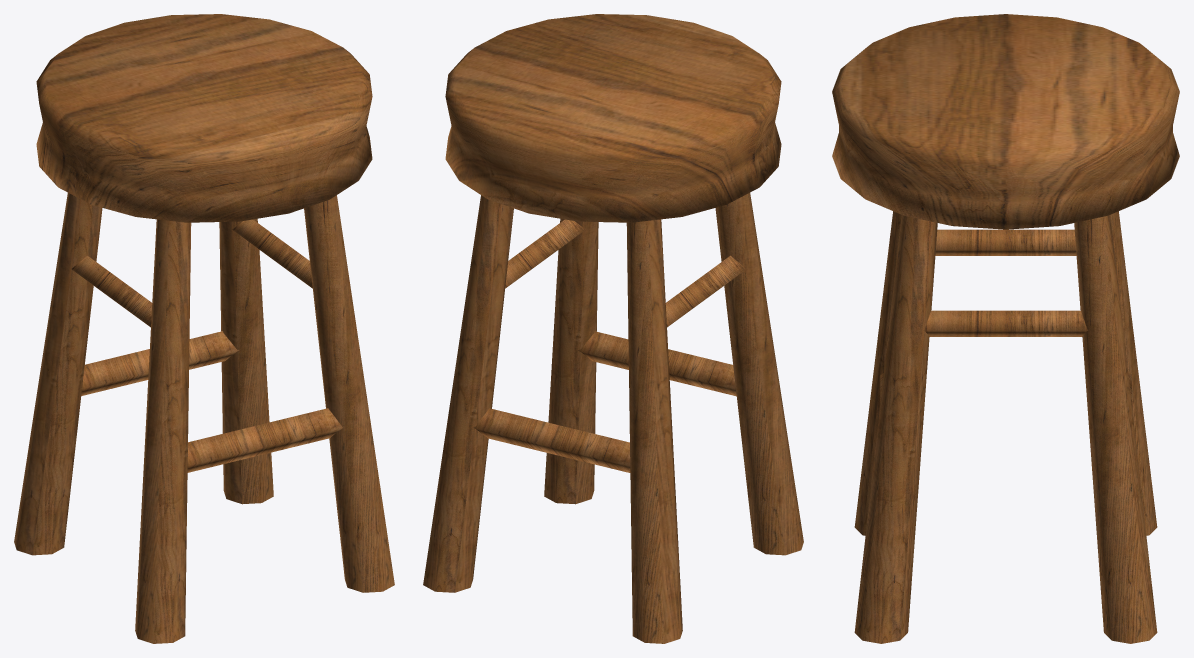
The model's file is Stool.fbx.
3 renders of one model, left to right at view 1: azimuth 30°, elevation 25°; view 2: azimuth 150°, elevation 25°; view 3: azimuth 270°, elevation 25°, orthographic. The views are drawn at different scales.
Visible parts, largest first — view 1: Frame.1; view 2: Frame.1; view 3: Frame.1.
Boxes of the visible parts, bbox=[...] form: Frame.1: bbox=[14, 14, 394, 643]; Frame.1: bbox=[423, 14, 803, 643]; Frame.1: bbox=[832, 14, 1179, 643].
Size of the model in its own units: 62.28 by 98.22 by 62.28.
